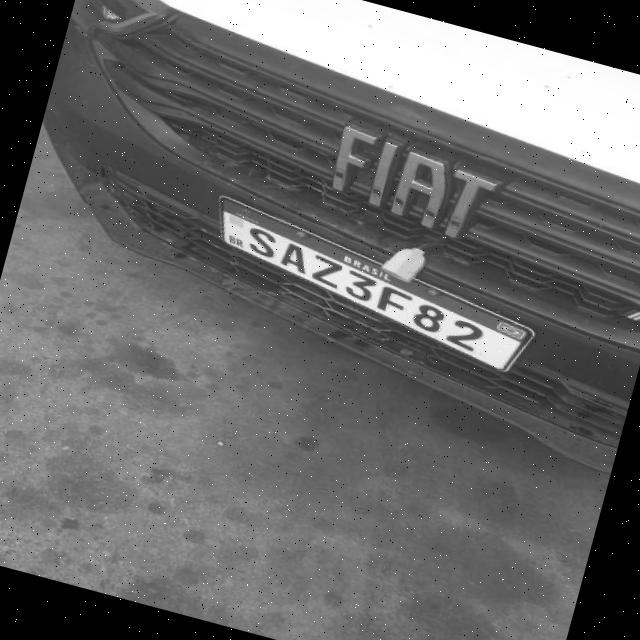placa_mercosul: (220, 199, 533, 370)
